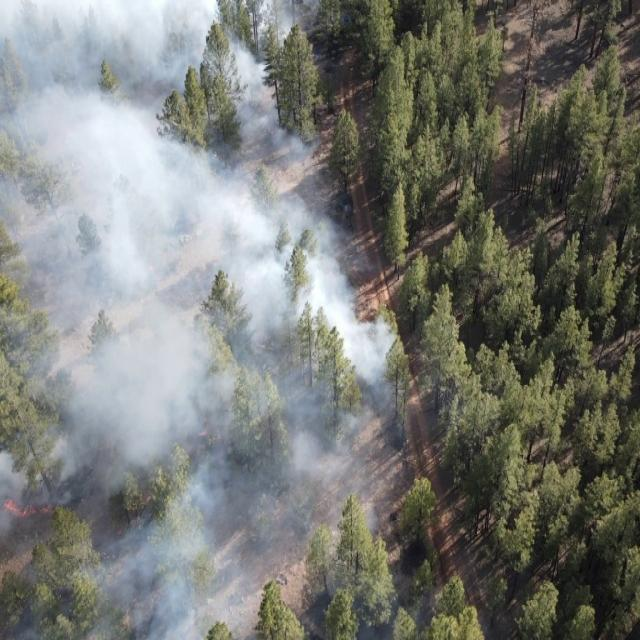fire: (2, 497, 56, 517), (196, 418, 215, 442)
smoke: (0, 0, 325, 640), (325, 217, 402, 640)
